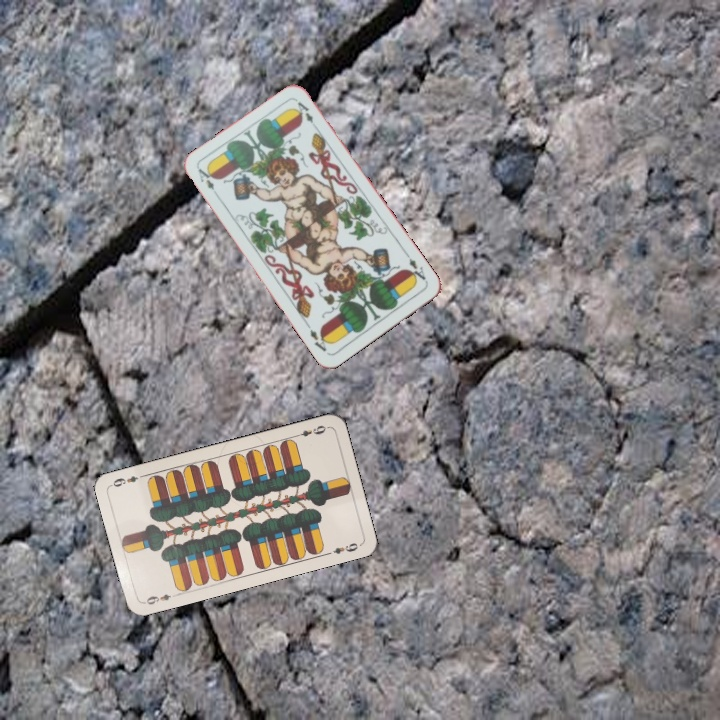E9: (290, 421, 330, 440), (140, 590, 180, 607)
EA: (194, 164, 222, 200), (402, 249, 428, 285)
